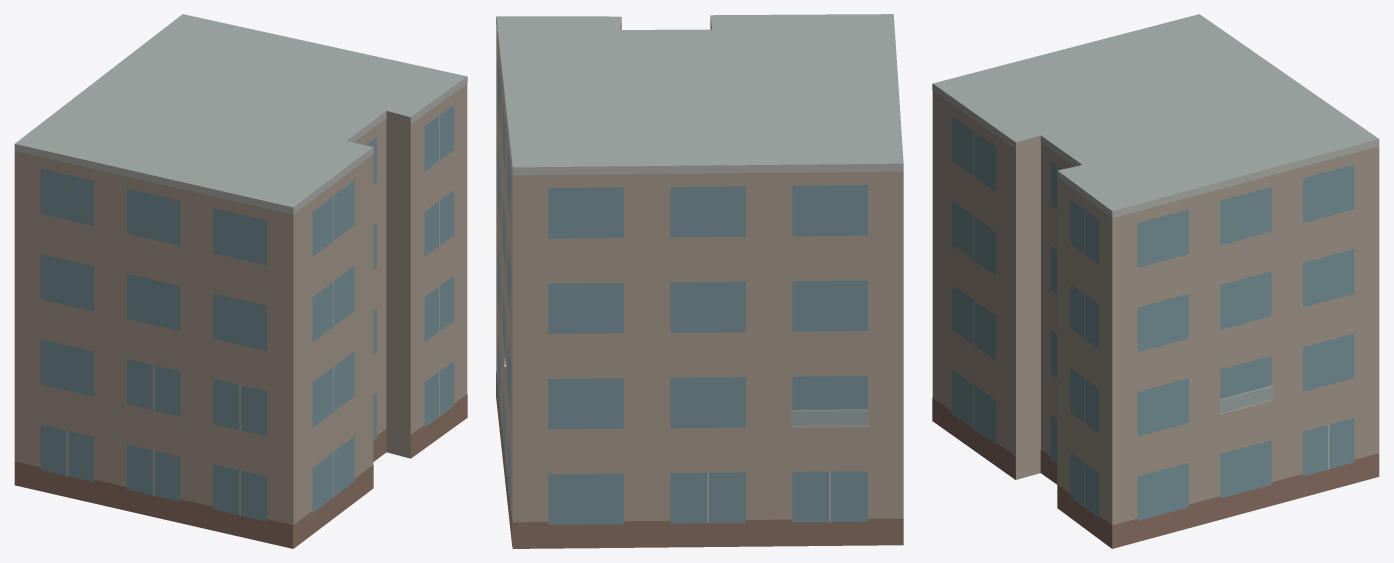
Rendered from survey-upis-32575396.glb.
The picture shows the model from 3 angles, left to right: view 1: azimuth 30°, elevation 25°; view 2: azimuth 150°, elevation 25°; view 3: azimuth 270°, elevation 25°; orthographic projection. The views are drawn at different scales.
Parts seen in each view (by area): view 1: survey-upis-32575396.tmp; view 2: survey-upis-32575396.tmp; view 3: survey-upis-32575396.tmp.
Part boxes in pixels (x1,y1,x2,y2): survey-upis-32575396.tmp: [14, 14, 467, 548]; survey-upis-32575396.tmp: [496, 14, 903, 548]; survey-upis-32575396.tmp: [932, 14, 1379, 548].
Bounding box in the file's own units: 14.67 × 11.7 × 14.04.
